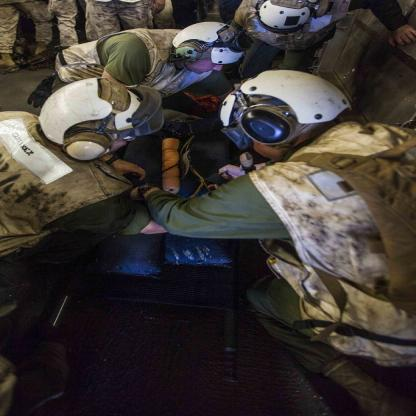Helmet: (221, 69, 357, 172), (37, 72, 171, 166), (164, 23, 245, 74), (251, 0, 315, 31)
